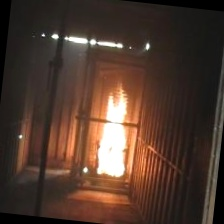fire: (92, 75, 144, 181)
